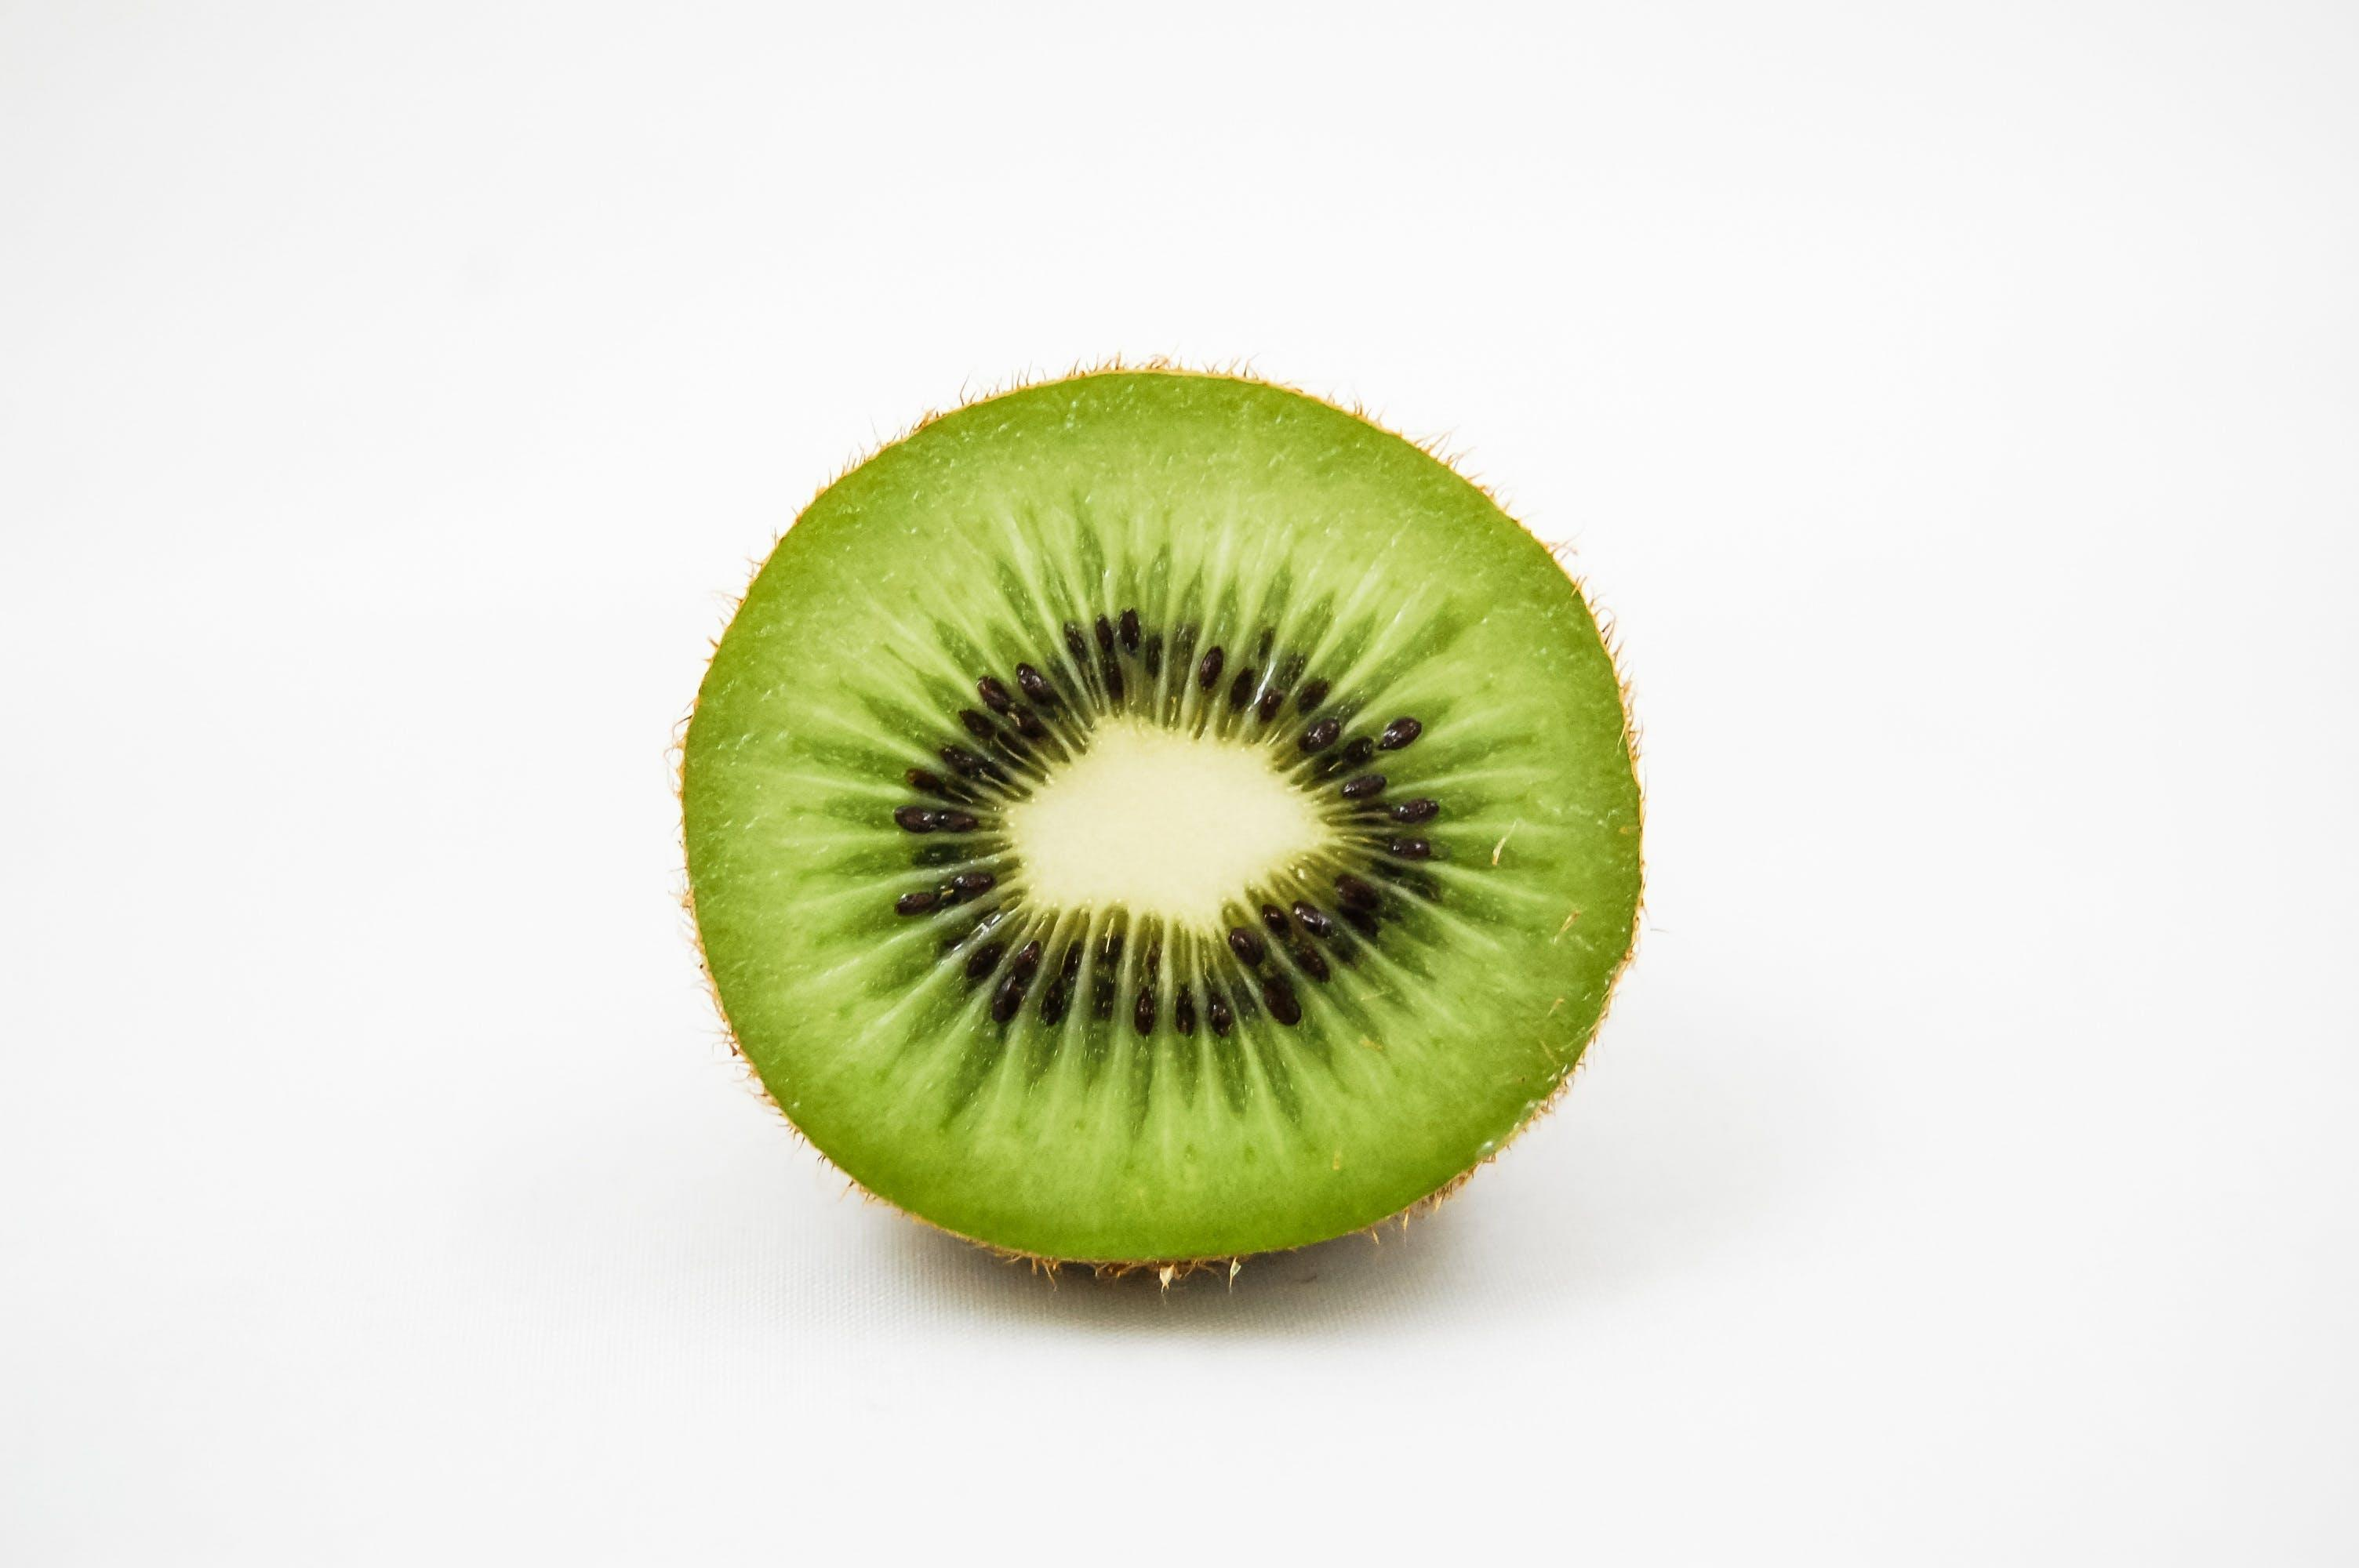kiwi: (647, 338, 1654, 1326)
